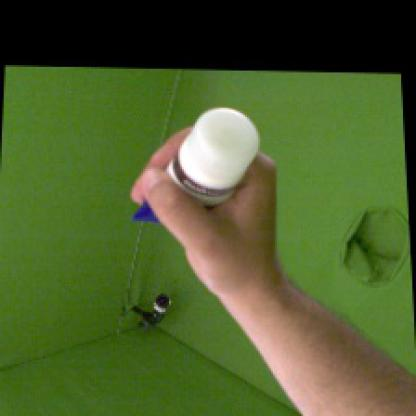Hand: (131, 123, 278, 297)
